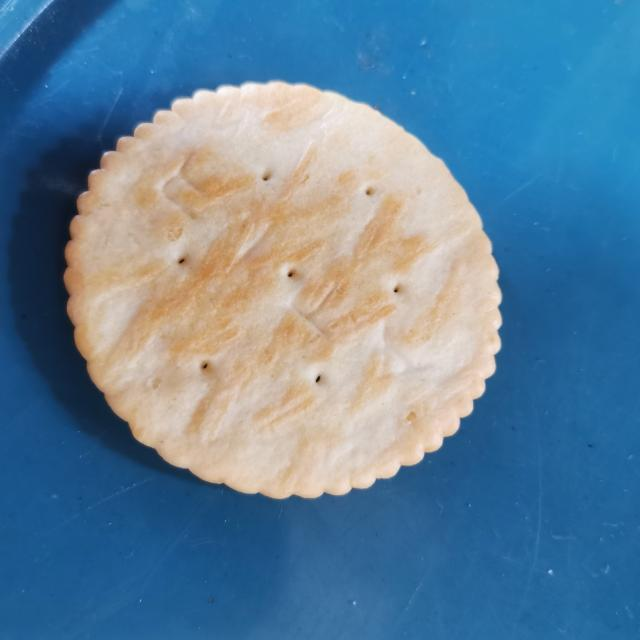Intact: (54, 73, 516, 512)
